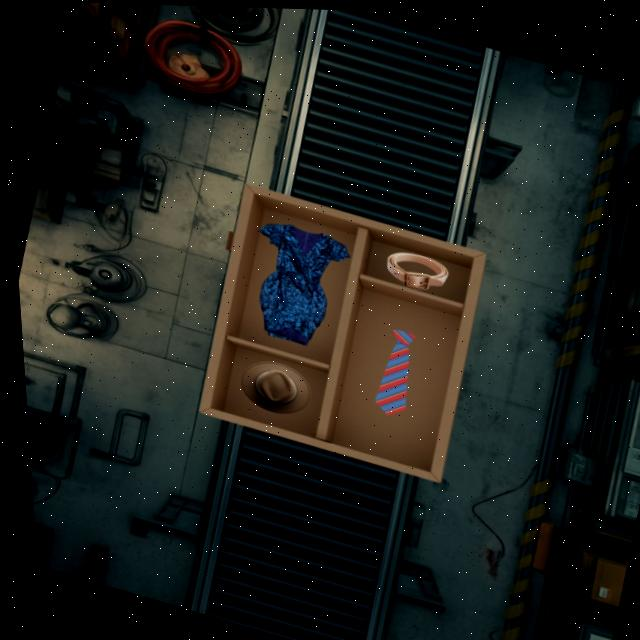belt: (386, 252, 448, 289)
dress: (259, 223, 349, 345)
hat: (241, 361, 309, 412)
tie: (374, 330, 415, 414)
